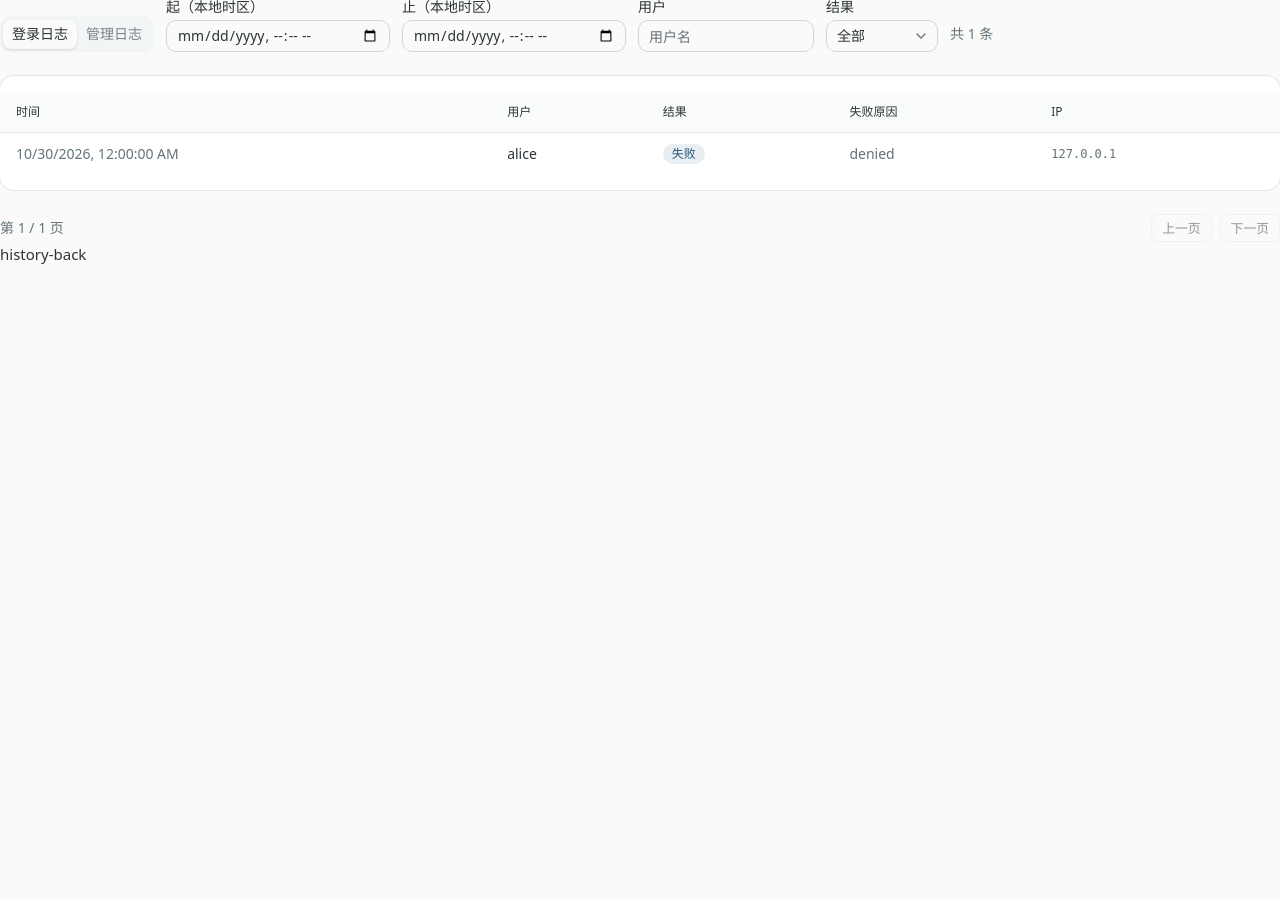
Scenario: audit record context panel › opens an existing login record, closes it, and keeps the list and URL
Step 1. Click the button with aria-label "查看日志详情 9" → (97, 154), box [16,144,179,164]
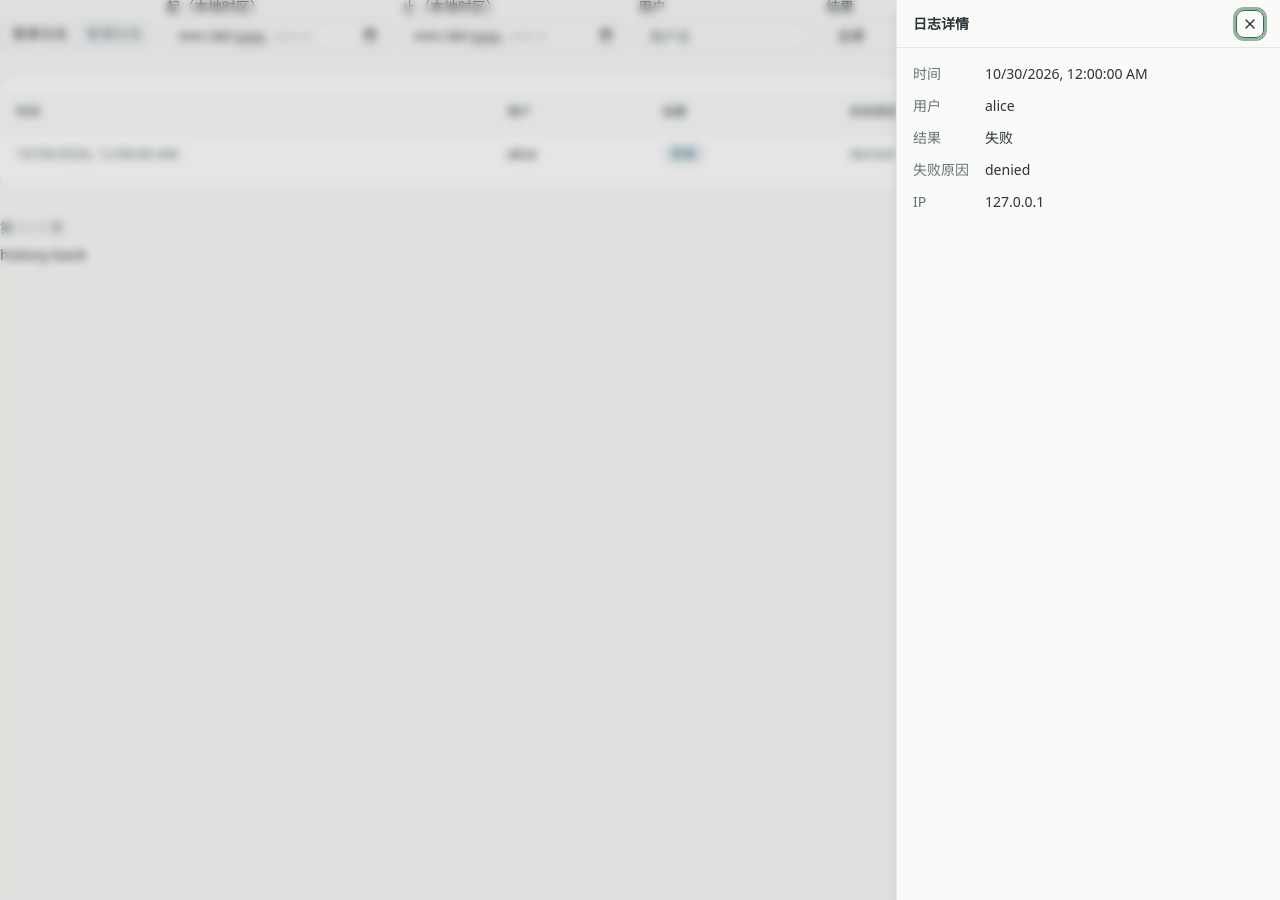
Now the text "alice" is shown, box [985,96,1015,115]
Now the text "denied" is shown, box [985,160,1030,179]
Step 2. Click the button named "关闭" → (1250, 24), box [1236,10,1264,38]
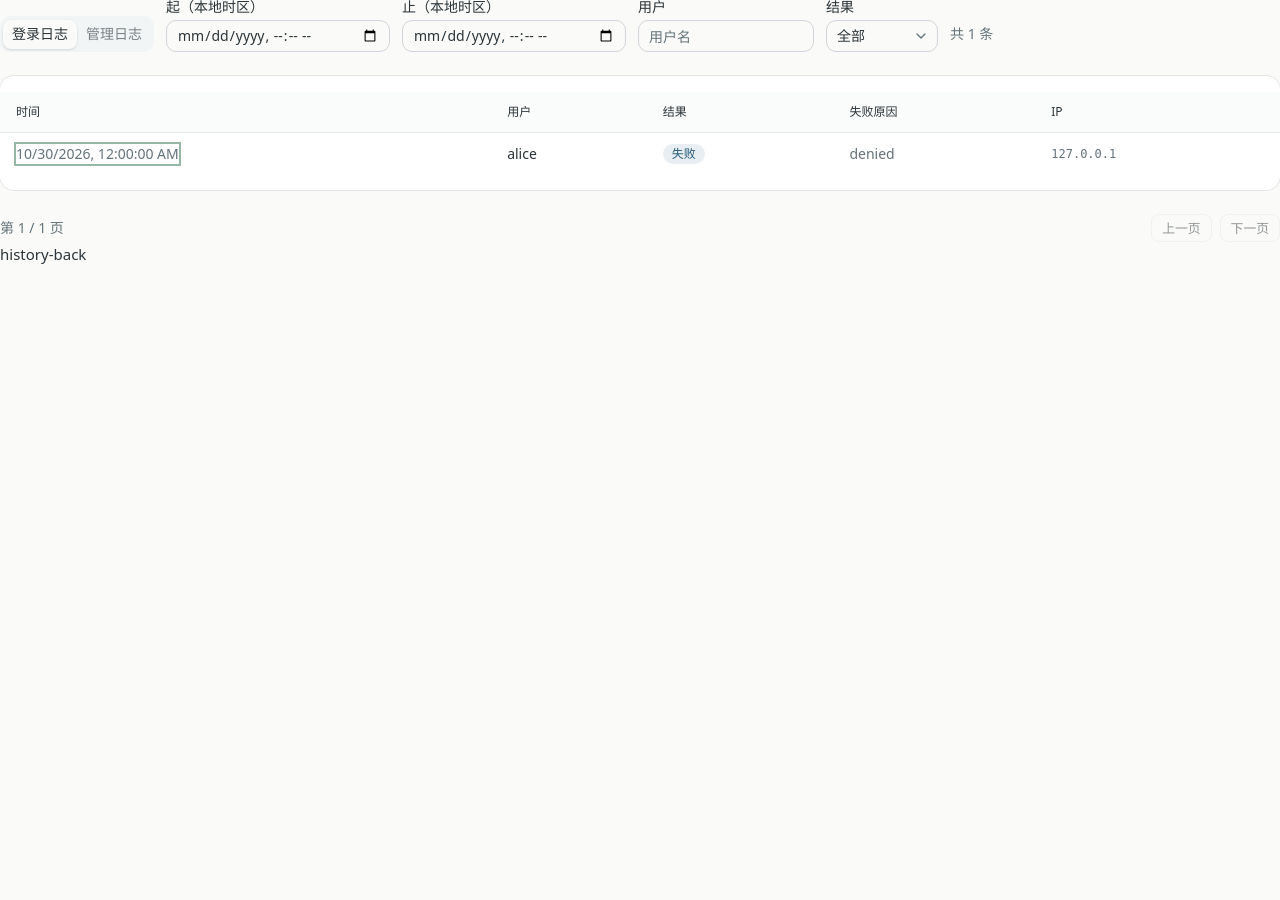
Expected: the button with aria-label "查看日志详情 9" is shown, [16,144,179,164]
Now the heading "日志详情" is gone
